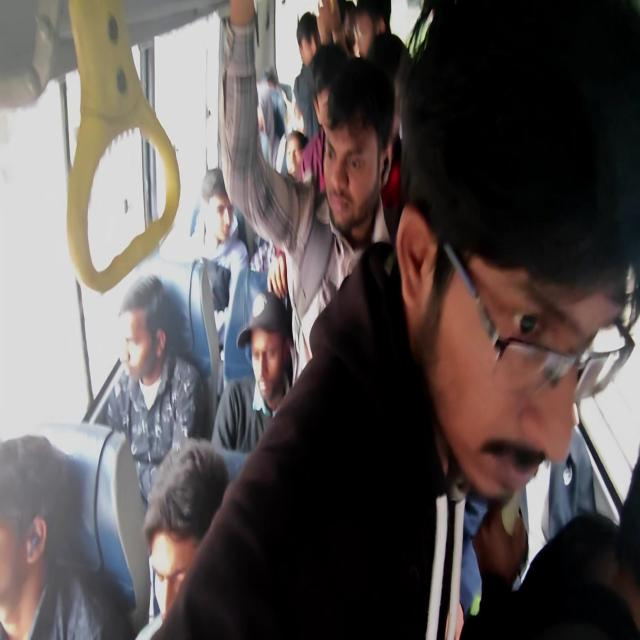person: (399, 86, 633, 453), (0, 460, 91, 632), (150, 481, 236, 640), (120, 281, 186, 437), (339, 79, 384, 245), (255, 299, 299, 393), (310, 74, 360, 153), (287, 2, 336, 67), (194, 170, 244, 233), (253, 71, 283, 142), (392, 17, 406, 143), (354, 18, 383, 69), (288, 128, 314, 176), (262, 49, 286, 90)
